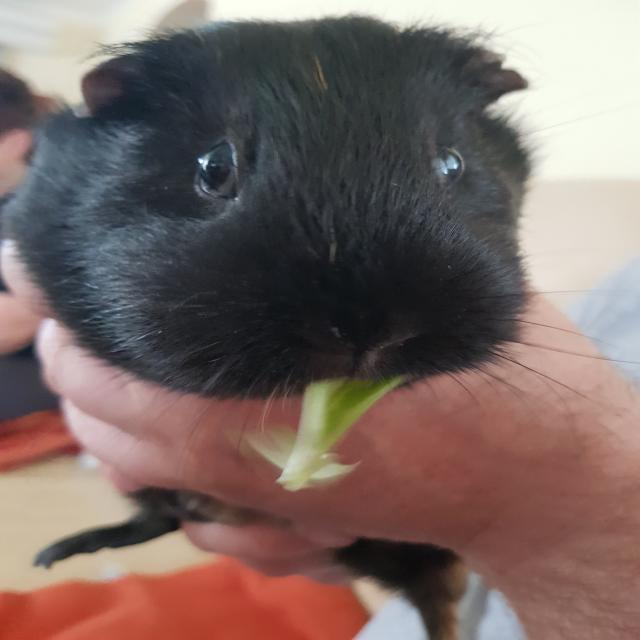guinea pig: (2, 12, 538, 637)
